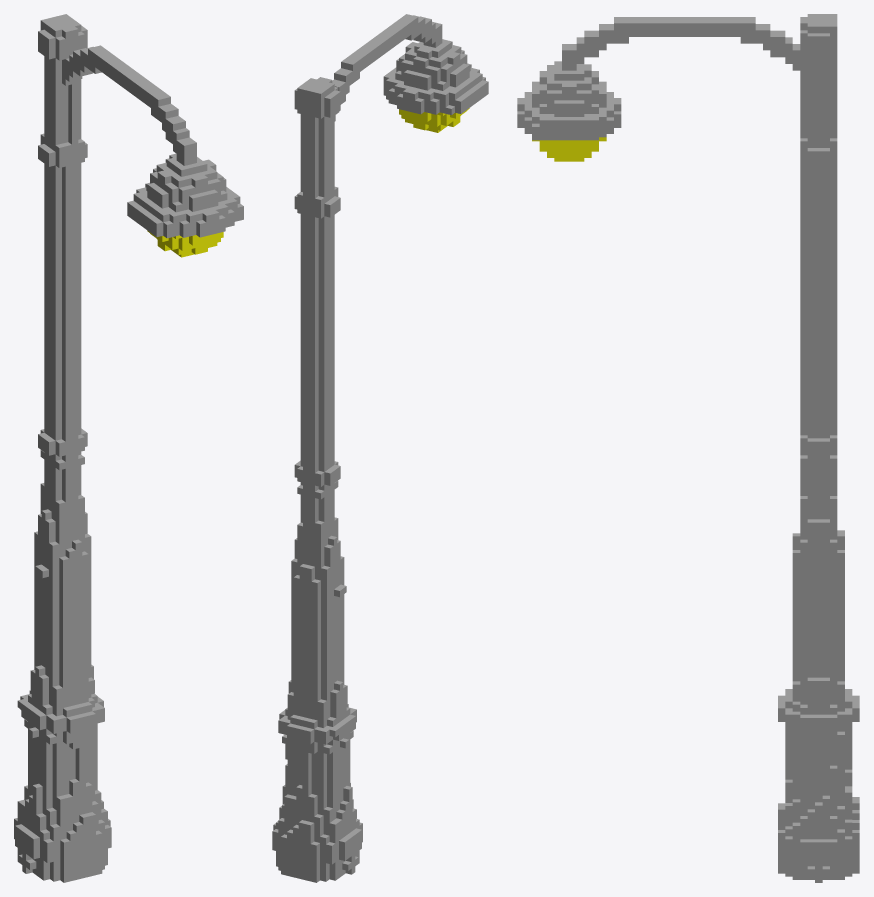
Rendered from Light Post1.obj.
3 views of the same model, side by side, from view 1: azimuth 30°, elevation 25°; view 2: azimuth 150°, elevation 25°; view 3: azimuth 270°, elevation 25° (orthographic). The views are drawn at different scales.
Parts seen in each view (by area): view 1: Light Post1; view 2: Light Post1; view 3: Light Post1.
Boxes of the visible parts, left/top/right/bottom form: Light Post1: left=14, top=14, right=243, bottom=882; Light Post1: left=272, top=14, right=488, bottom=882; Light Post1: left=517, top=14, right=859, bottom=882.
Bounding box in the file's own units: 13 × 125 × 46.
